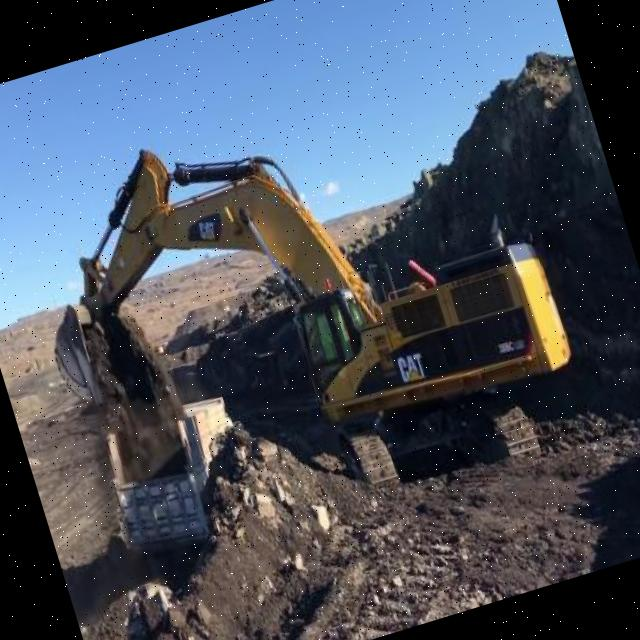Dump Truck: (89, 383, 268, 569)
Excavator: (2, 41, 596, 575)
